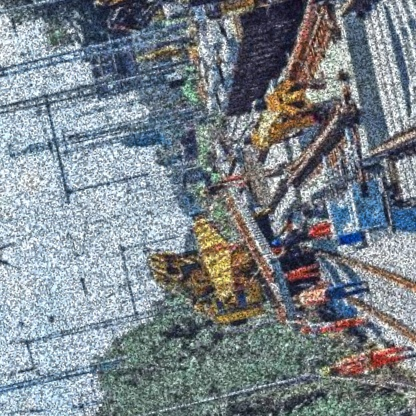blue: (269, 238, 281, 249)
red: (298, 325, 313, 339)
vest: (333, 351, 373, 379), (295, 284, 330, 310), (309, 321, 338, 339)
yellow: (315, 366, 331, 379), (195, 189, 206, 200)
